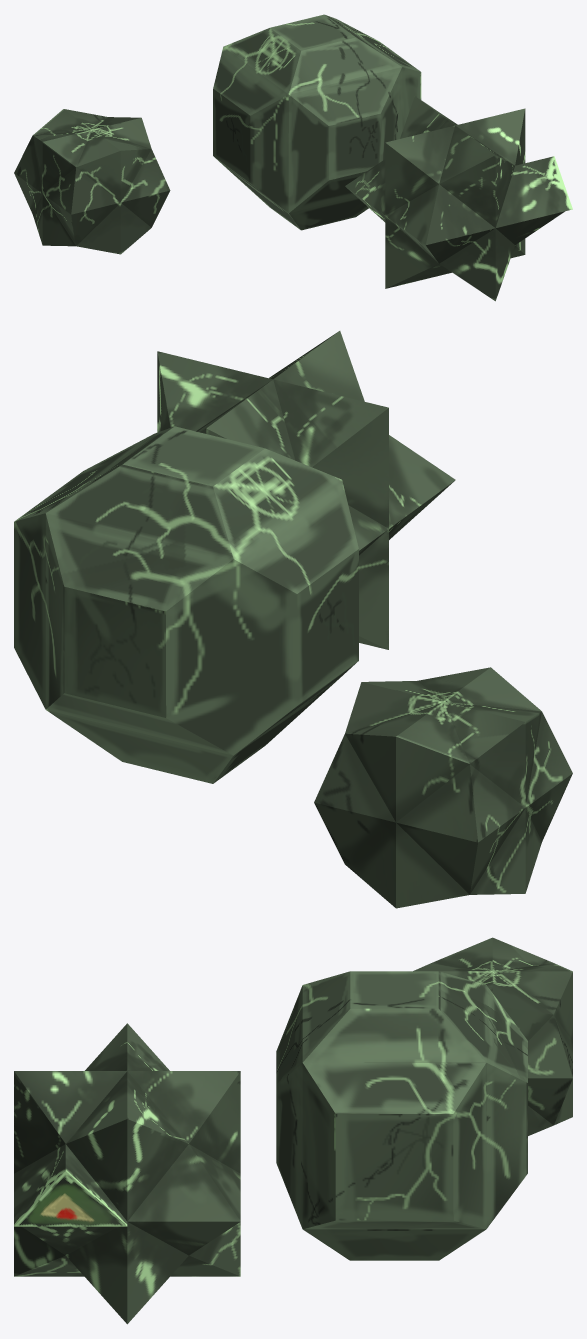
Rendered from golem_idle.obj.
The picture shows the model from 3 angles, top to bottom: view 1: azimuth 30°, elevation 25°; view 2: azimuth 150°, elevation 25°; view 3: azimuth 270°, elevation 25°; orthographic projection. The views are drawn at different scales.
Parts seen in each view (by area): view 1: Cube; view 2: Cube; view 3: Cube.
Boxes of the visible parts, x1,y1,x2,y2 form: Cube: (14, 14, 572, 301); Cube: (14, 331, 572, 908); Cube: (14, 937, 572, 1324).
Size of the model in its own units: 6.34 by 3.05 by 6.08.
1 material, 1 textured.
